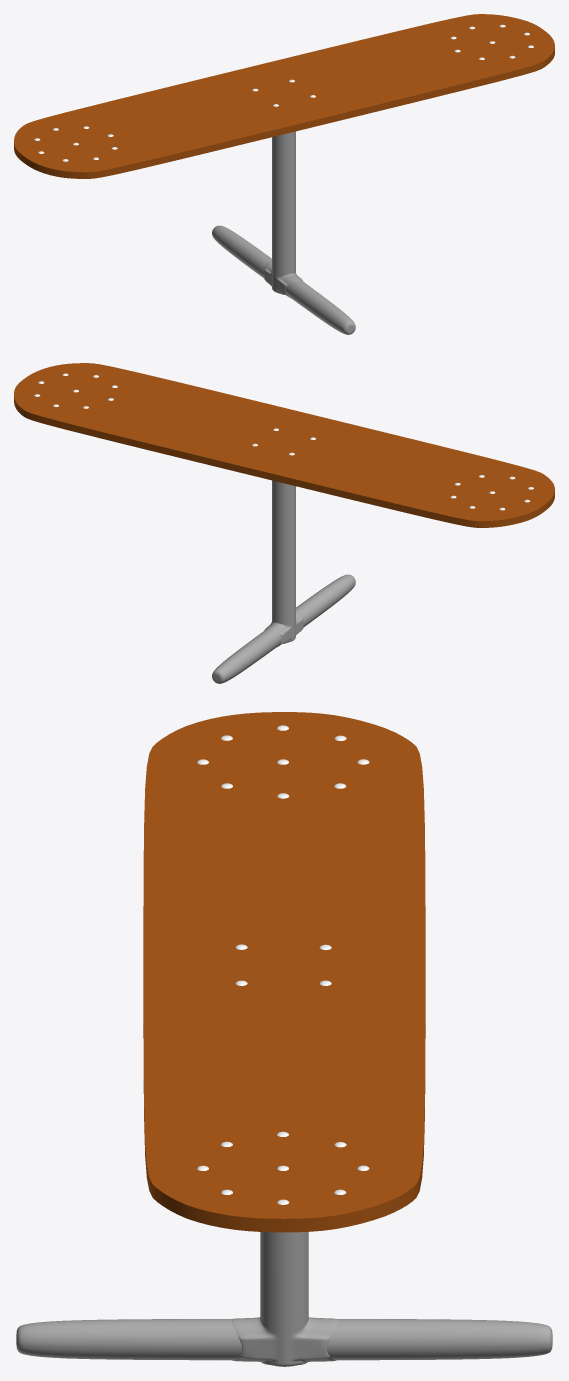
The model's file is path.fbx.
3 views of the same model, one above another, from view 1: azimuth 30°, elevation 25°; view 2: azimuth 150°, elevation 25°; view 3: azimuth 270°, elevation 25° (orthographic). The views are drawn at different scales.
Visible parts, largest first — view 1: Plane.004; view 2: Plane.004; view 3: Plane.004.
Part boxes in pixels (bbox=[...]): Plane.004: bbox=[14, 14, 554, 334]; Plane.004: bbox=[14, 363, 554, 683]; Plane.004: bbox=[16, 712, 552, 1366].
Bounding box in the file's own units: 240 × 87.65 × 107.
